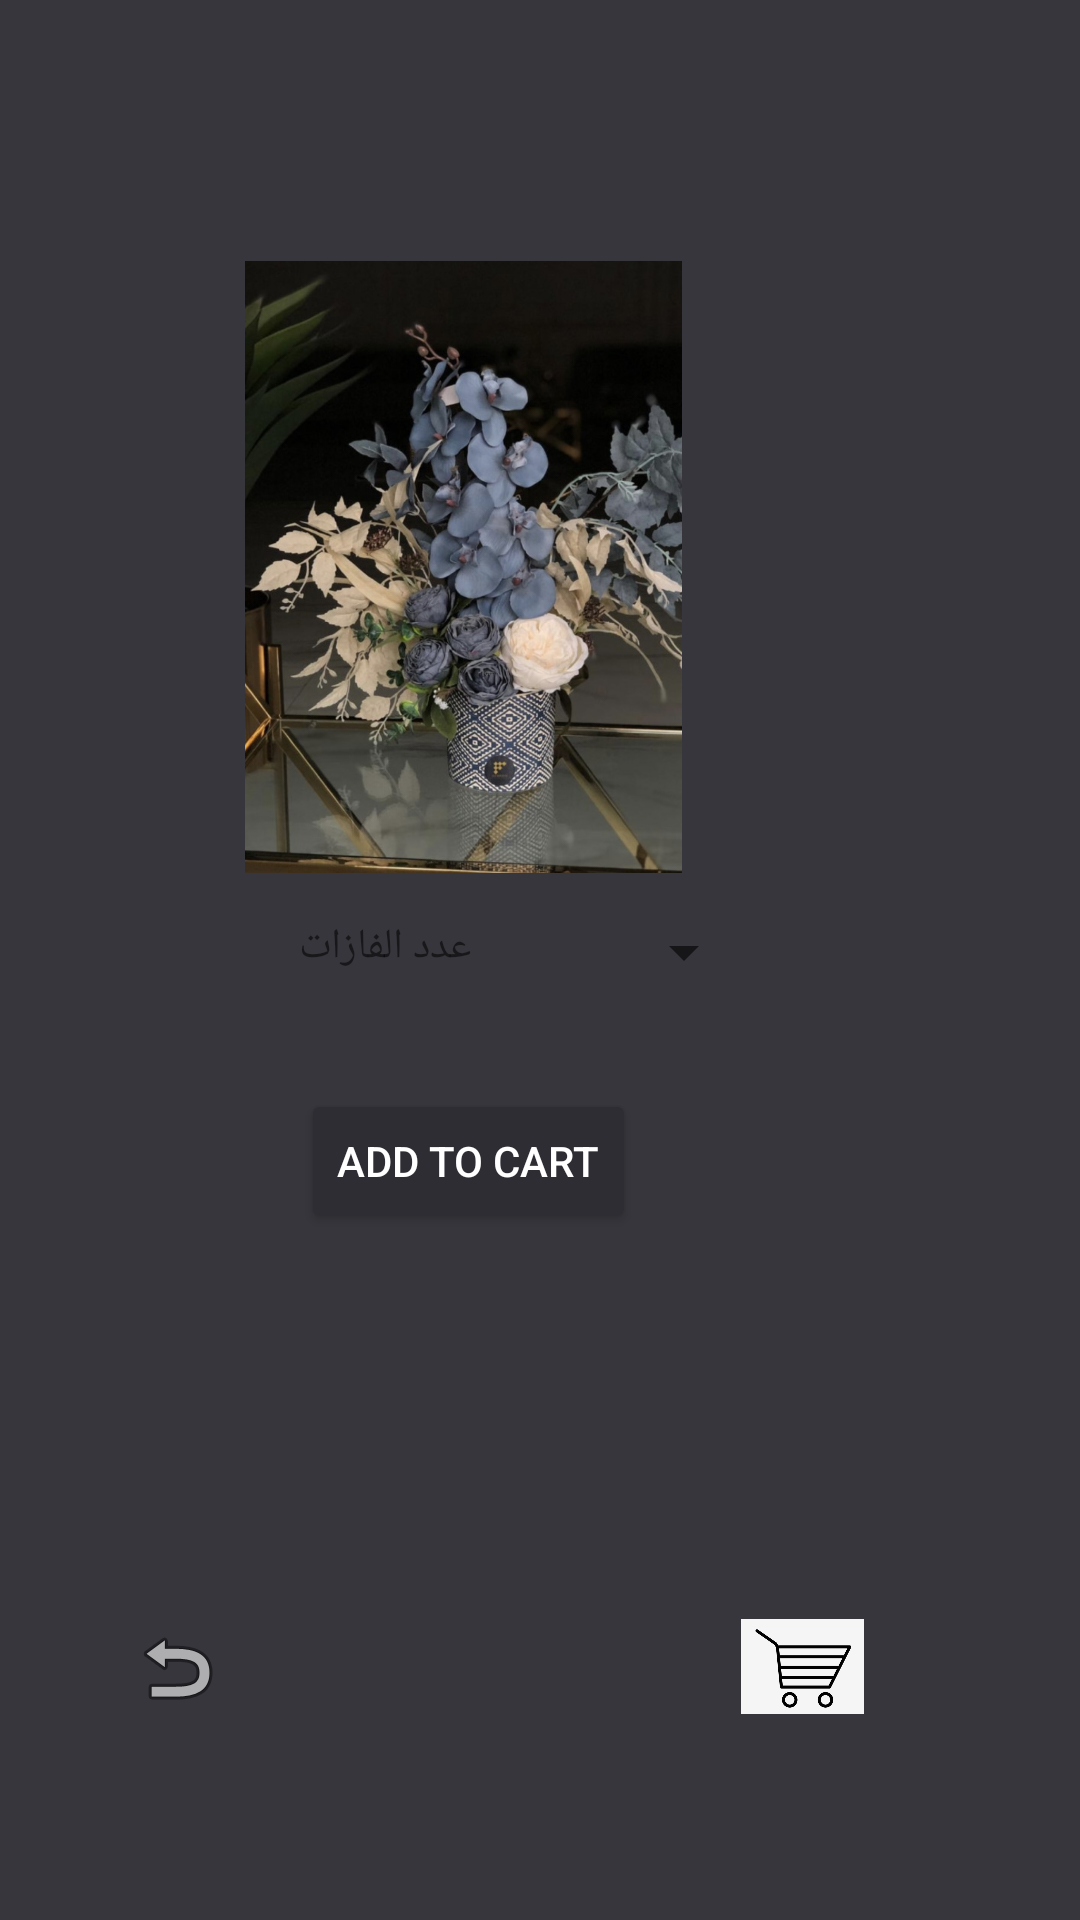

Icons on this 1080px×1920px Android screen, each with the point to tap as point (x, y):
revert: point (178, 1668)
